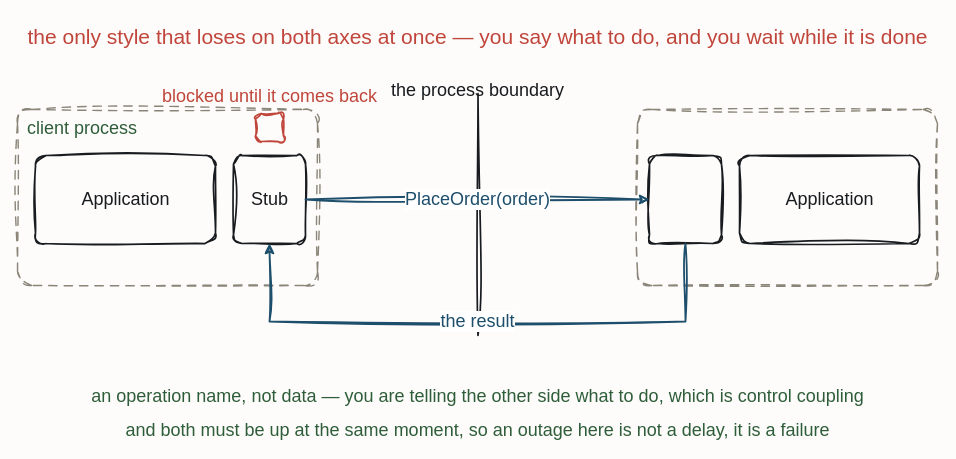
This 956x459 diagram has some shape labels left out. The shapes that lost their labels are listed below. From the top down, each one's box as (x1, y1, x2, y2) in pixels, then its label:
(648, 154, 722, 244): Proxy
(636, 108, 938, 286): server process
